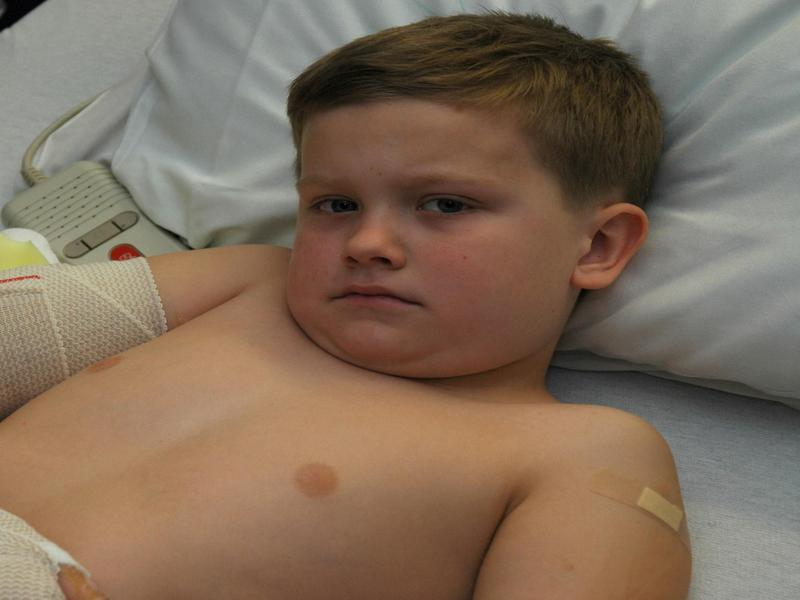person: (1, 14, 704, 597)
